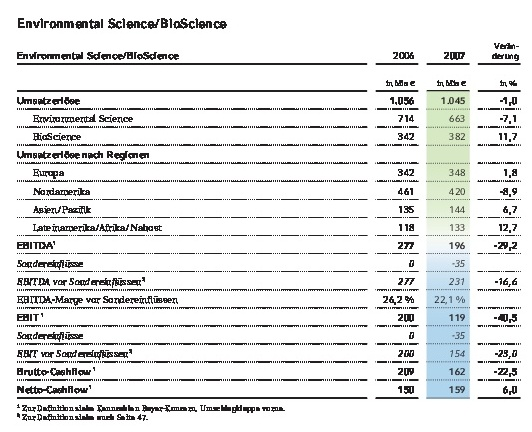table: (0, 0, 532, 432)
